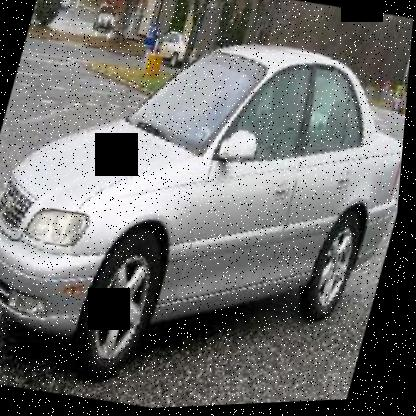not_emergency: (0, 4, 414, 405)
